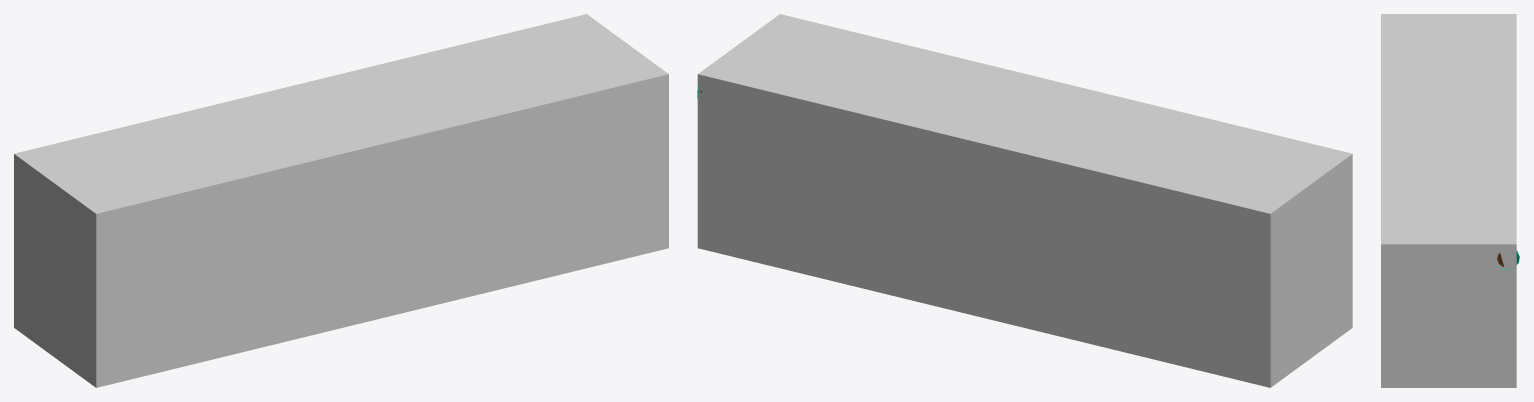
The model's file is Scratchplough.gltf.
3 views of the same model, side by side, from view 1: azimuth 30°, elevation 25°; view 2: azimuth 150°, elevation 25°; view 3: azimuth 270°, elevation 25° (orthographic). The views are drawn at different scales.
Parts seen in each view (by area): view 1: Box.003; view 2: Box.003; view 3: Box.003.
Part boxes in pixels (x1=…): Box.003: x1=14, y1=14, x2=668, y2=387; Box.003: x1=697, y1=14, x2=1352, y2=387; Box.003: x1=1381, y1=14, x2=1516, y2=387.
Size of the model in its own units: 2.55 by 0.7537 by 0.6452.
4 materials, 3 textured.
